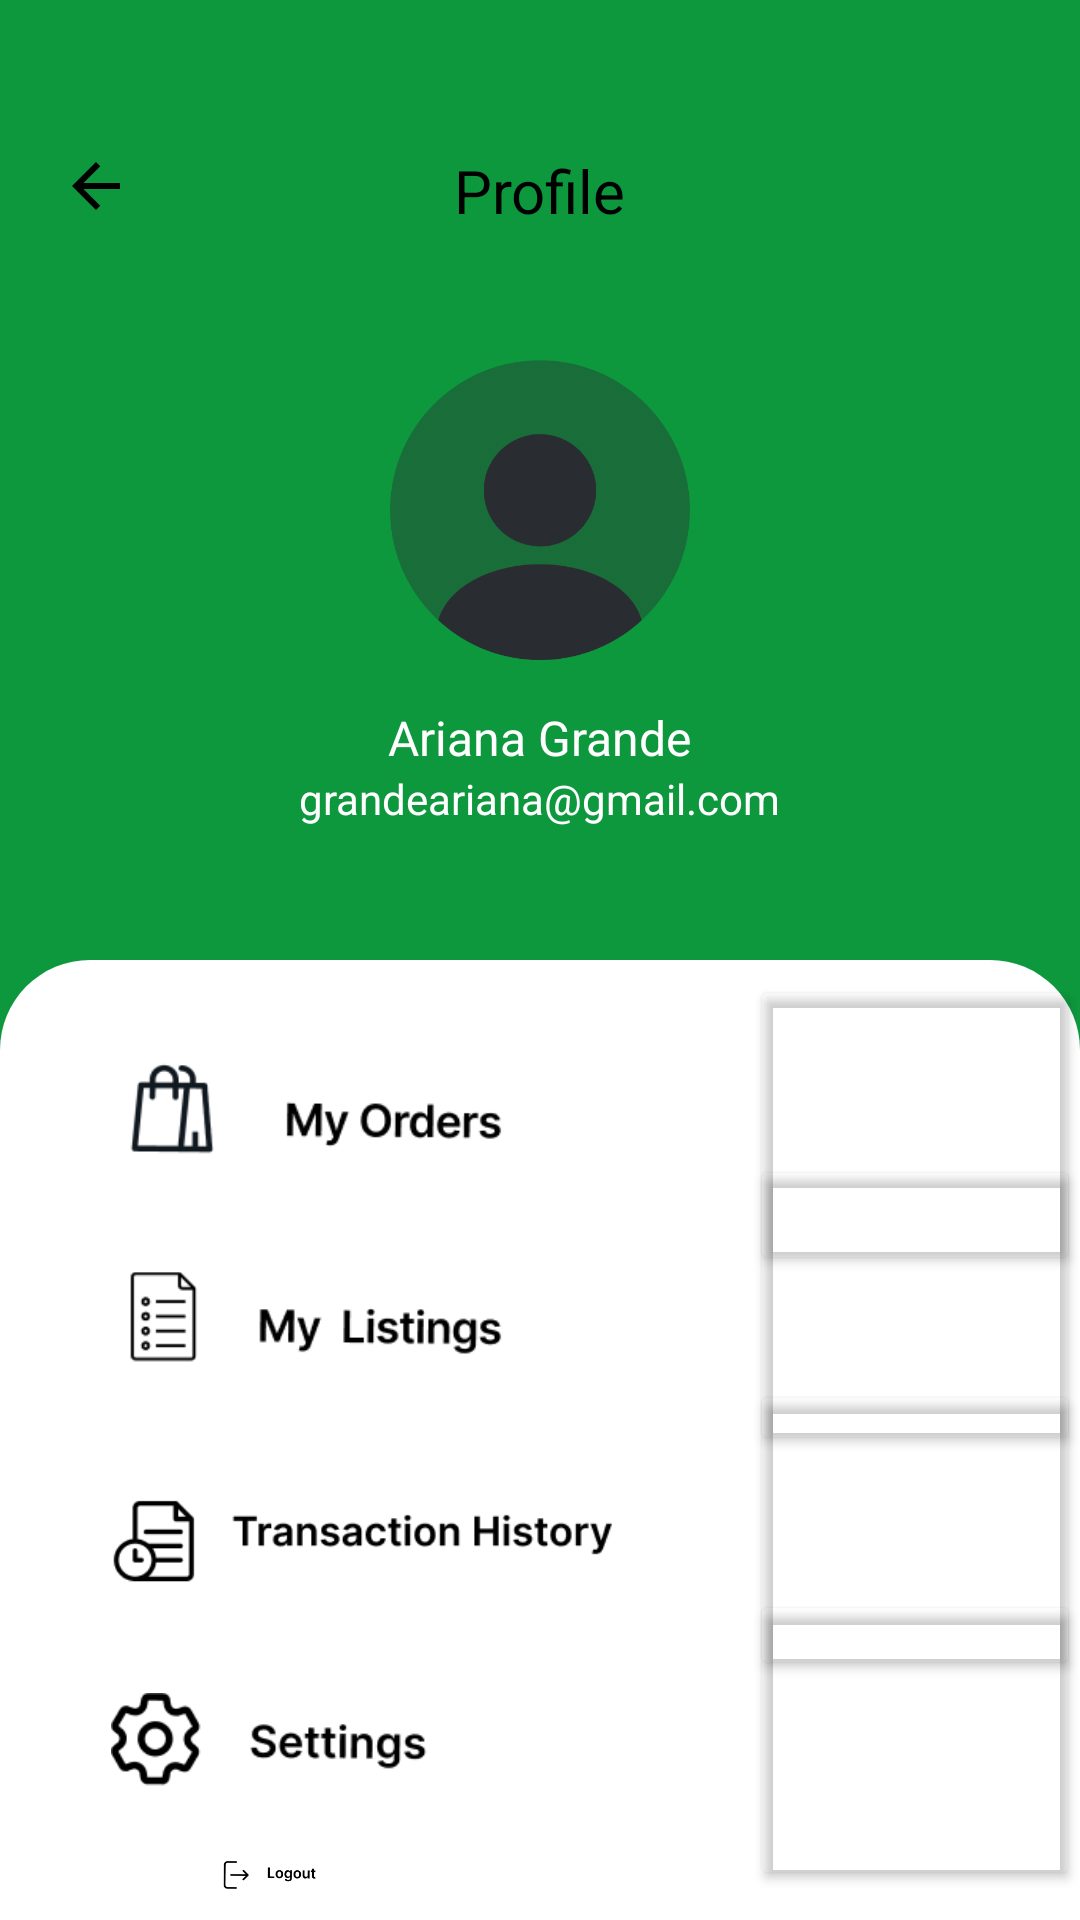

Point at icon controls on the screen. Image size 1080x1920, points as point (x, y).
arrow back: point (96, 186)
